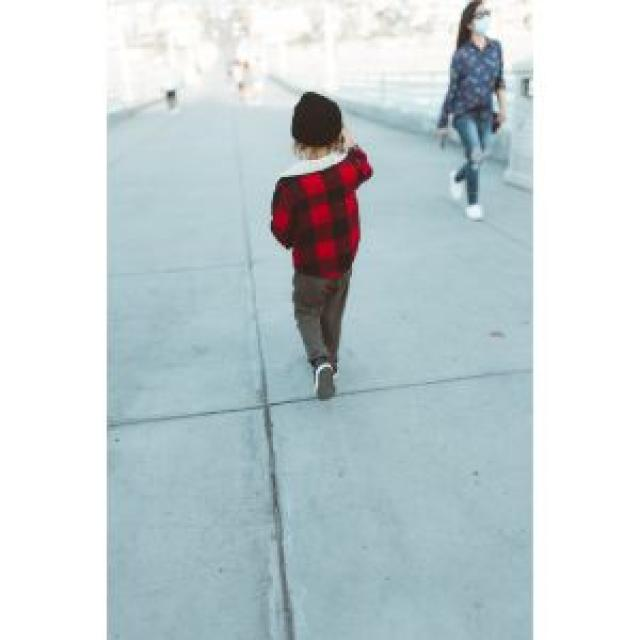nonfall: (252, 88, 363, 385), (437, 7, 516, 219)
